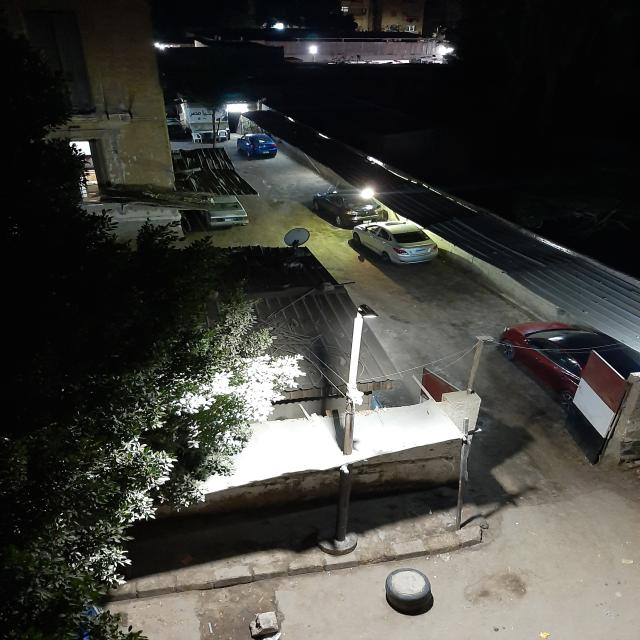Street Light: (332, 304, 379, 541)
